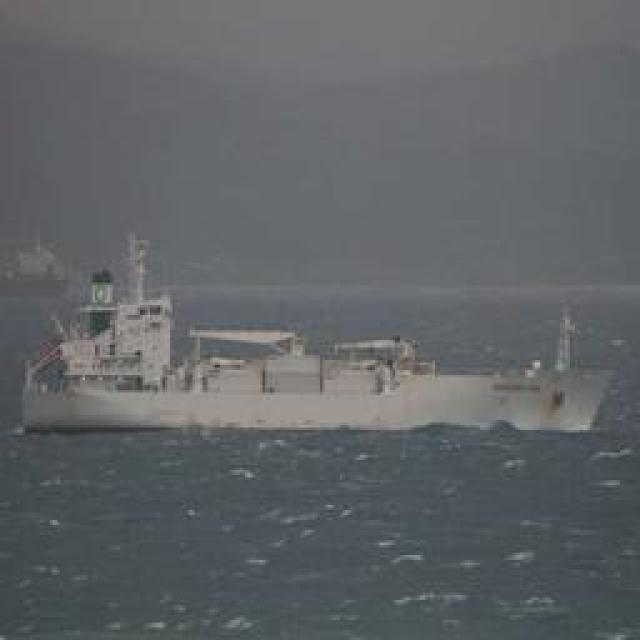Ship: (22, 321, 625, 441)
